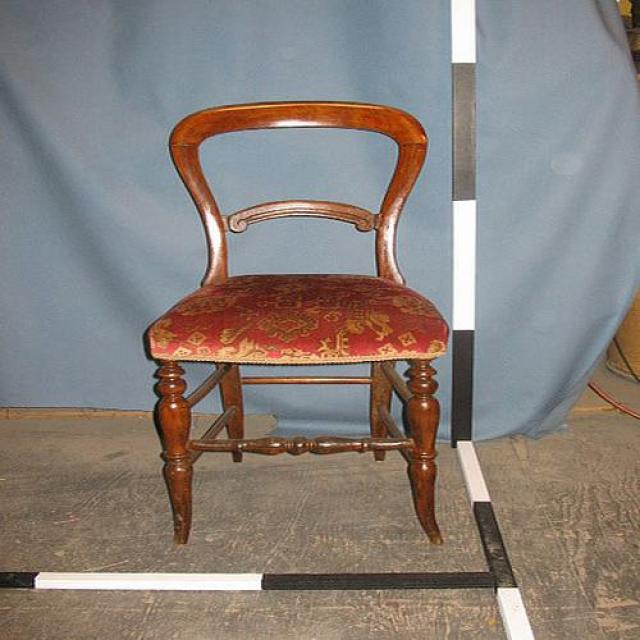chair: (142, 102, 451, 545)
